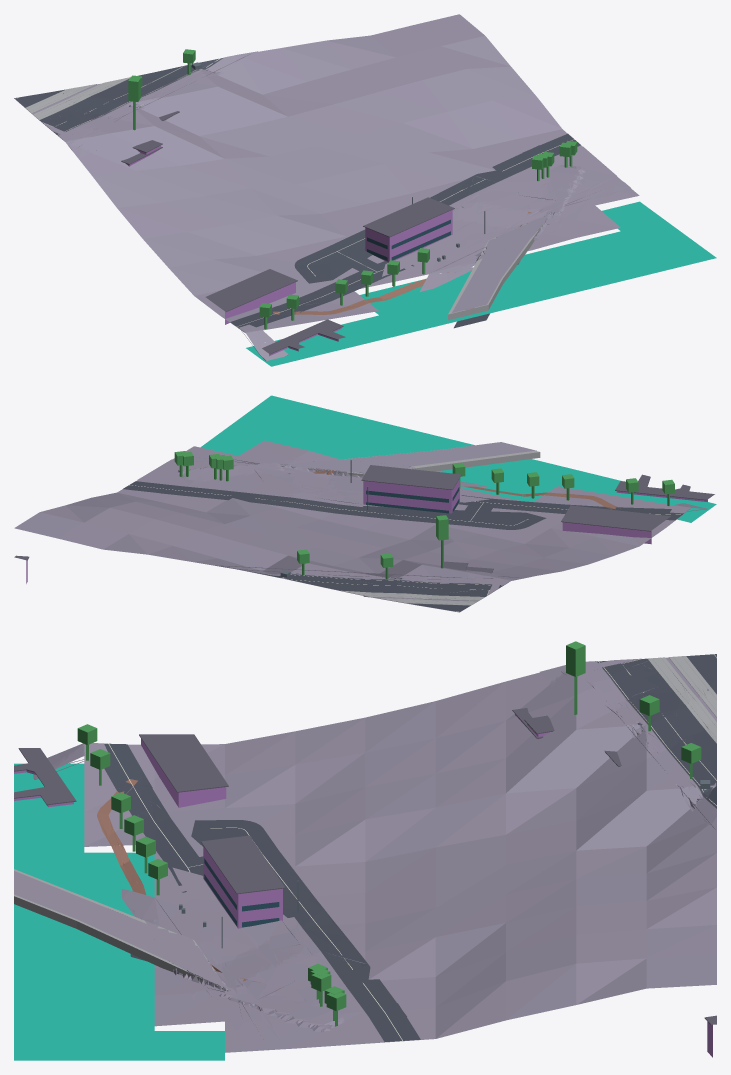
3 renders of one model, top to bottom at view 1: azimuth 30°, elevation 25°; view 2: azimuth 150°, elevation 25°; view 3: azimuth 270°, elevation 25°, orthographic. The views are drawn at different scales.
Parts seen in each view (by area): view 1: compiled-chunk; view 2: compiled-chunk; view 3: compiled-chunk.
Part boxes in pixels (x1,y1,x2,y2): compiled-chunk: (14, 14, 716, 366); compiled-chunk: (14, 395, 716, 612); compiled-chunk: (14, 641, 716, 1060).
Size of the model in its own units: 120 by 32.47 by 120.
